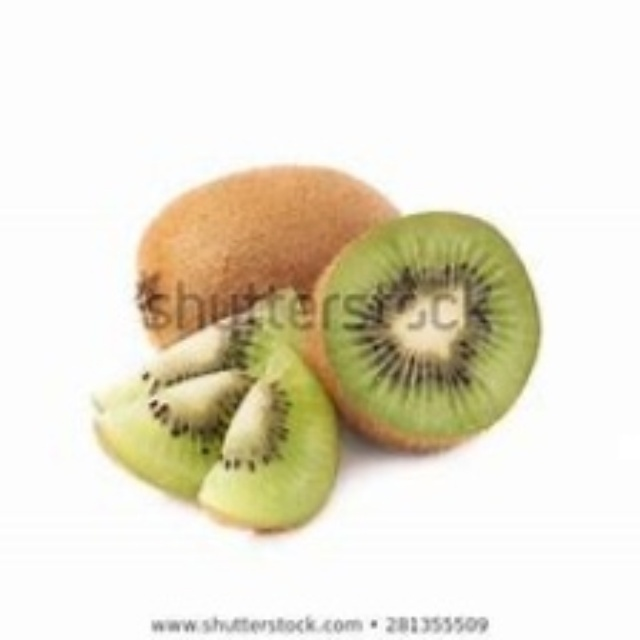kiwi: (135, 146, 402, 371), (102, 313, 356, 541), (311, 231, 528, 466)
